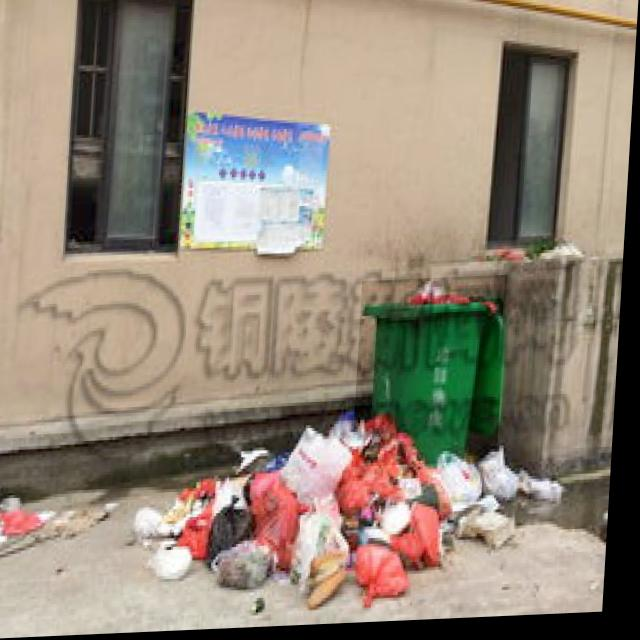garbage: (129, 402, 575, 620), (0, 493, 60, 547)
overflow: (357, 280, 511, 471)
